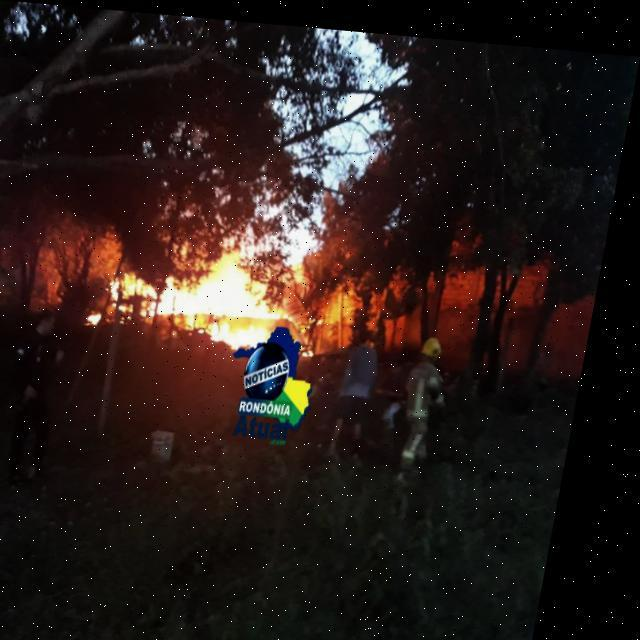Fire: (107, 228, 297, 344), (310, 276, 369, 352), (94, 304, 115, 324)
